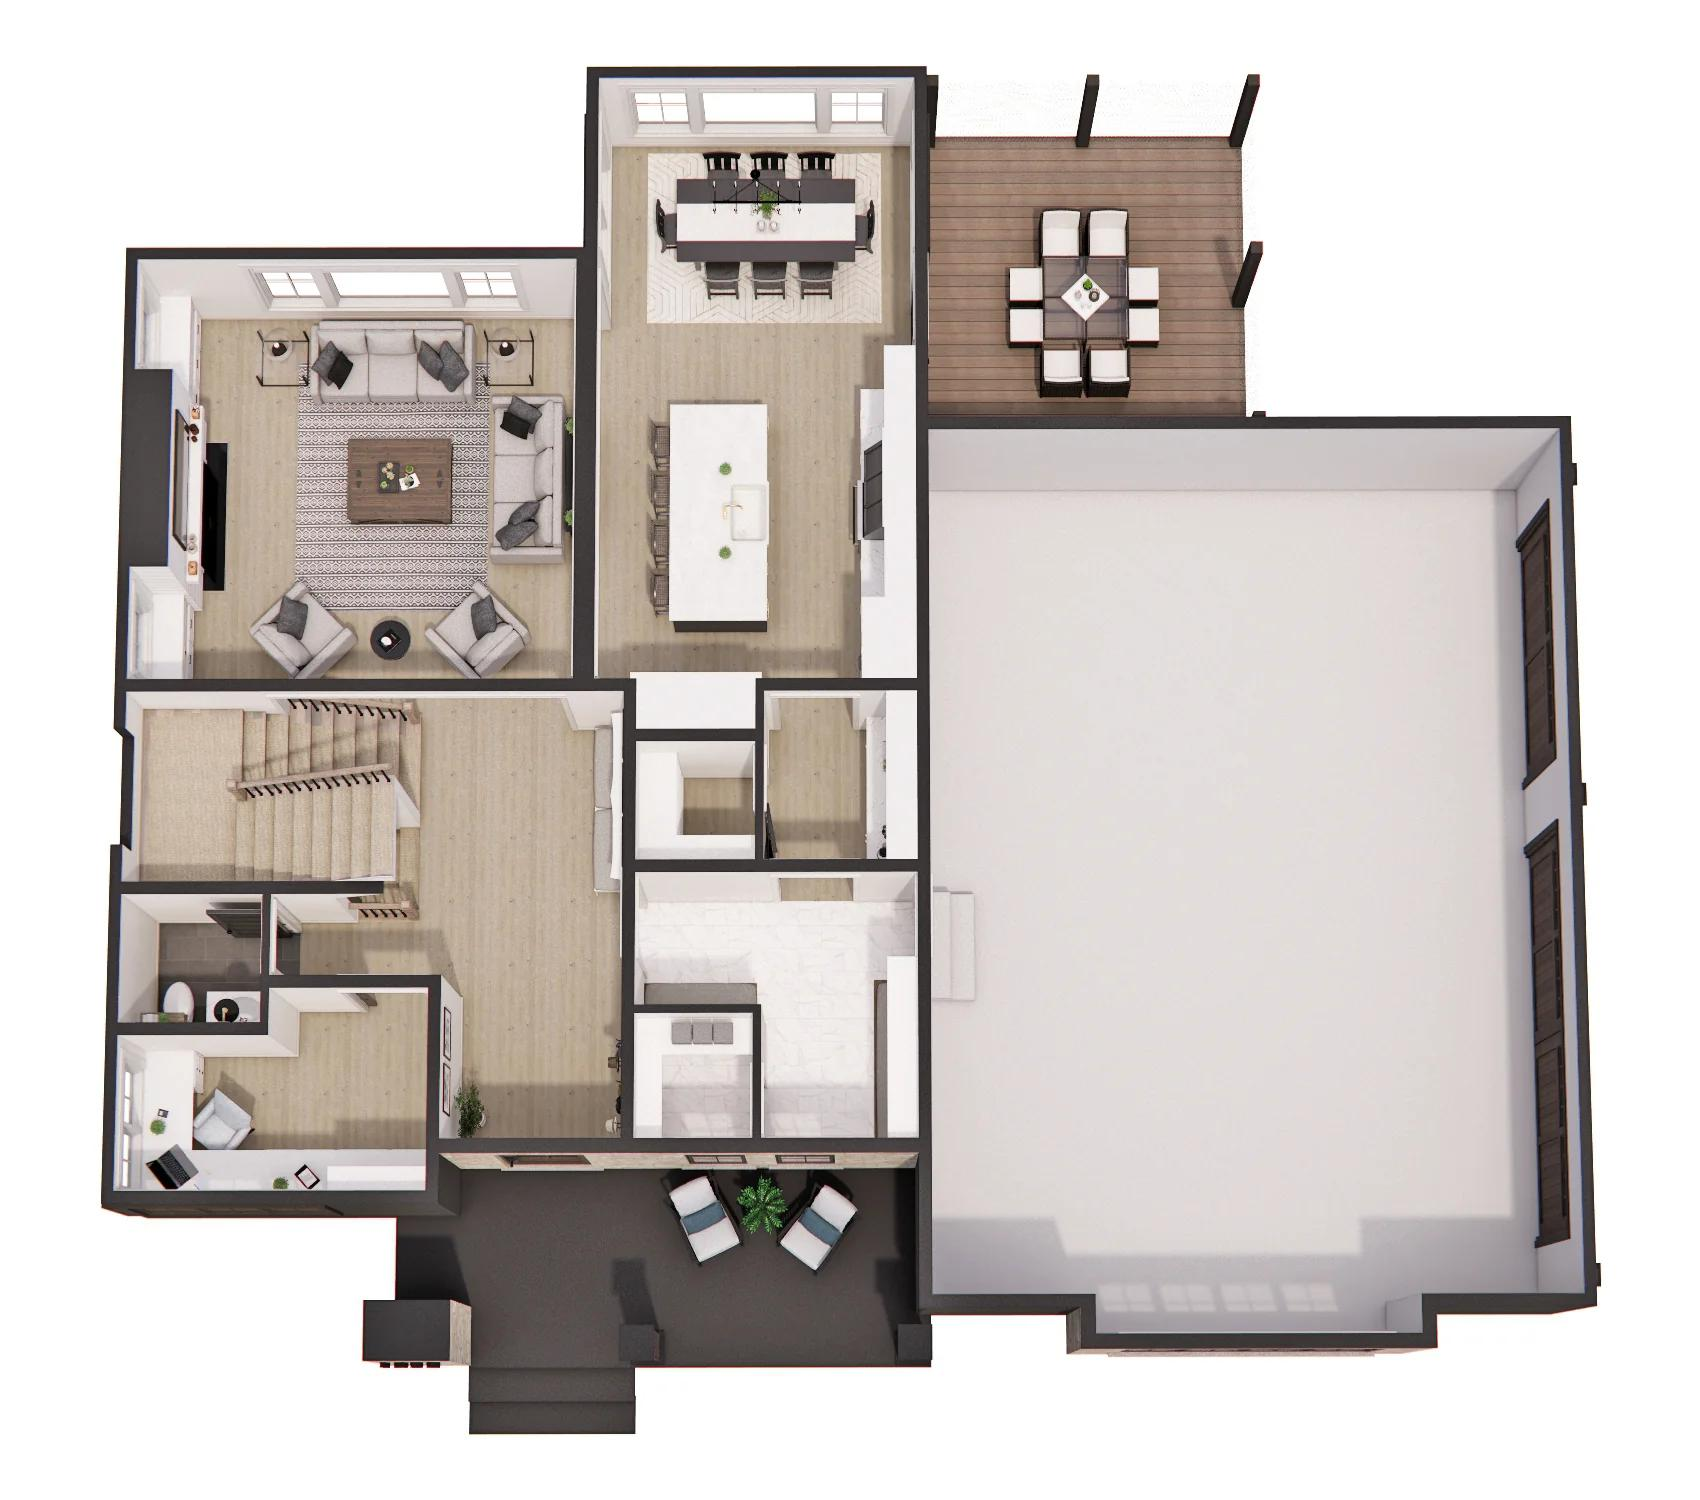room: (928, 426, 1570, 1297), (594, 72, 911, 683), (127, 255, 582, 678), (631, 864, 915, 1148), (110, 987, 433, 1196), (762, 685, 921, 863), (116, 888, 265, 1028), (631, 731, 760, 861)
